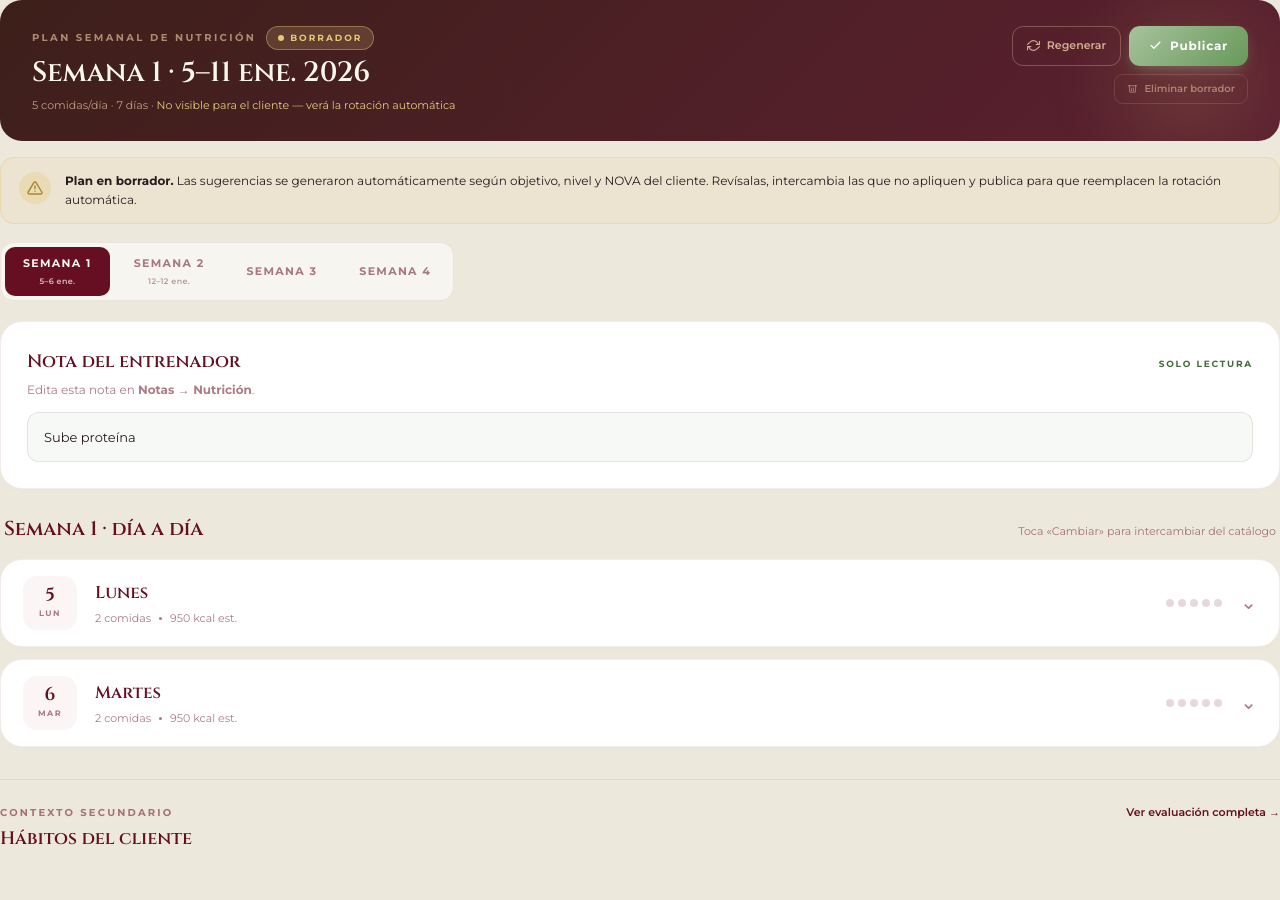
Scenario: ClientNutritionTab › switches the visible day cards when a different week pill is clicked
Expected: the text "Borrador" is shown, [266, 26, 374, 50]
Click the button "Semana 2 12–12 ene.". click: (169, 271)
box: [116, 247, 222, 296]
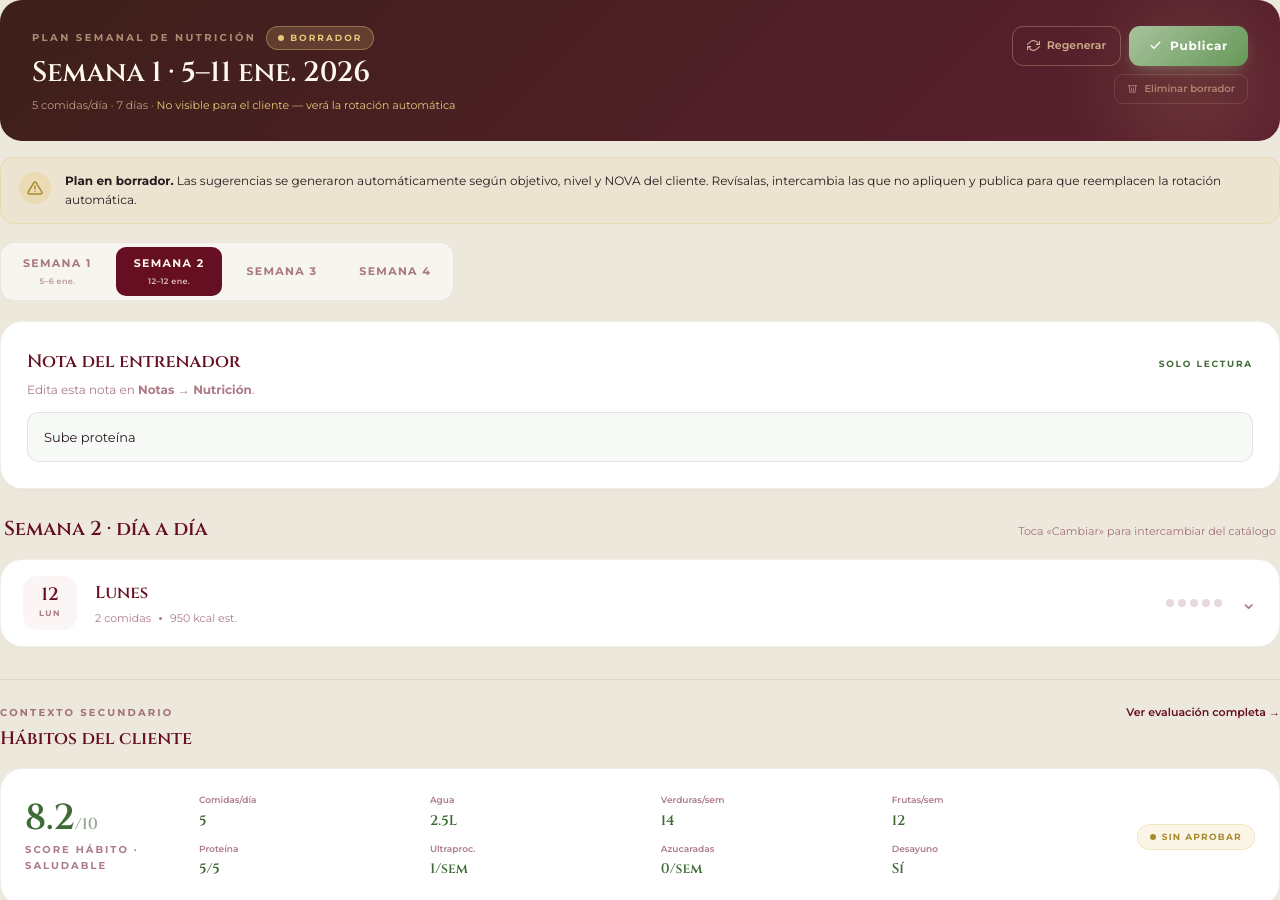
Result: the text "Semana 2 · día a día" is shown at [4, 513, 208, 545]
